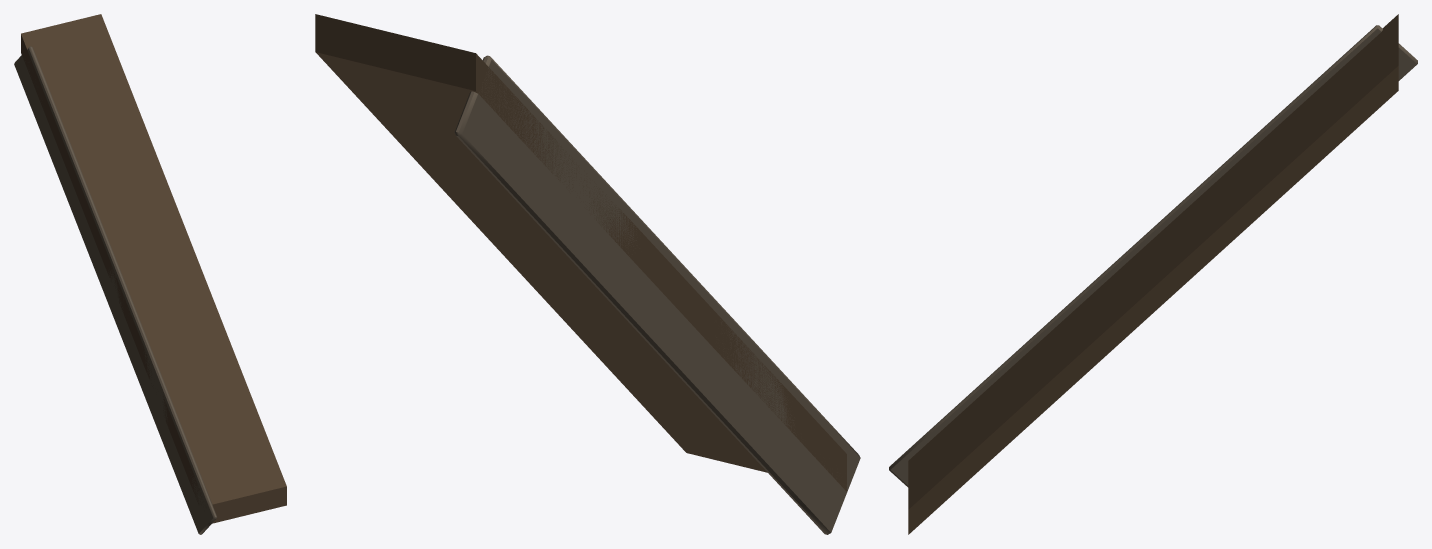
The model's file is dach_ortgang_l.glb.
The picture shows the model from 3 angles, left to right: view 1: azimuth 30°, elevation 25°; view 2: azimuth 150°, elevation 25°; view 3: azimuth 270°, elevation 25°; orthographic projection. The views are drawn at different scales.
Visible parts, largest first — view 1: dach_ortgang_l; view 2: dach_ortgang_l; view 3: dach_ortgang_l.
Boxes of the visible parts, left/top/right/bottom form: dach_ortgang_l: left=14, top=14, right=286, bottom=534; dach_ortgang_l: left=315, top=14, right=860, bottom=534; dach_ortgang_l: left=889, top=14, right=1417, bottom=534.
Size of the model in its own units: 0.5 by 2.21 by 2.16.
